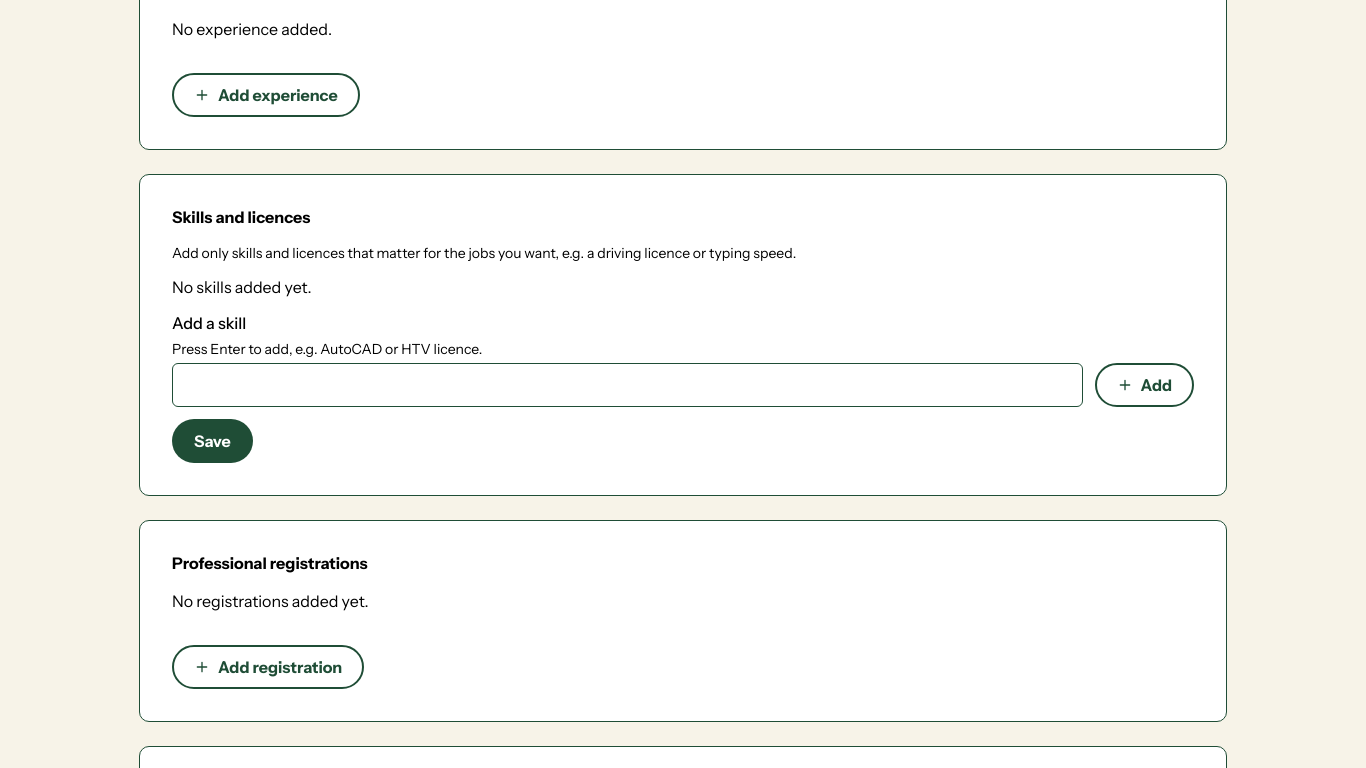
Resume page › saves skills typed into the builder
This screenshot has width=1366, height=768.
(page scrolled)
Type "HTV licence" into the field labelled "Add a skill" at coordinates (627, 384), box top-left (172, 362), bottom-right (1083, 406)
Then press Enter
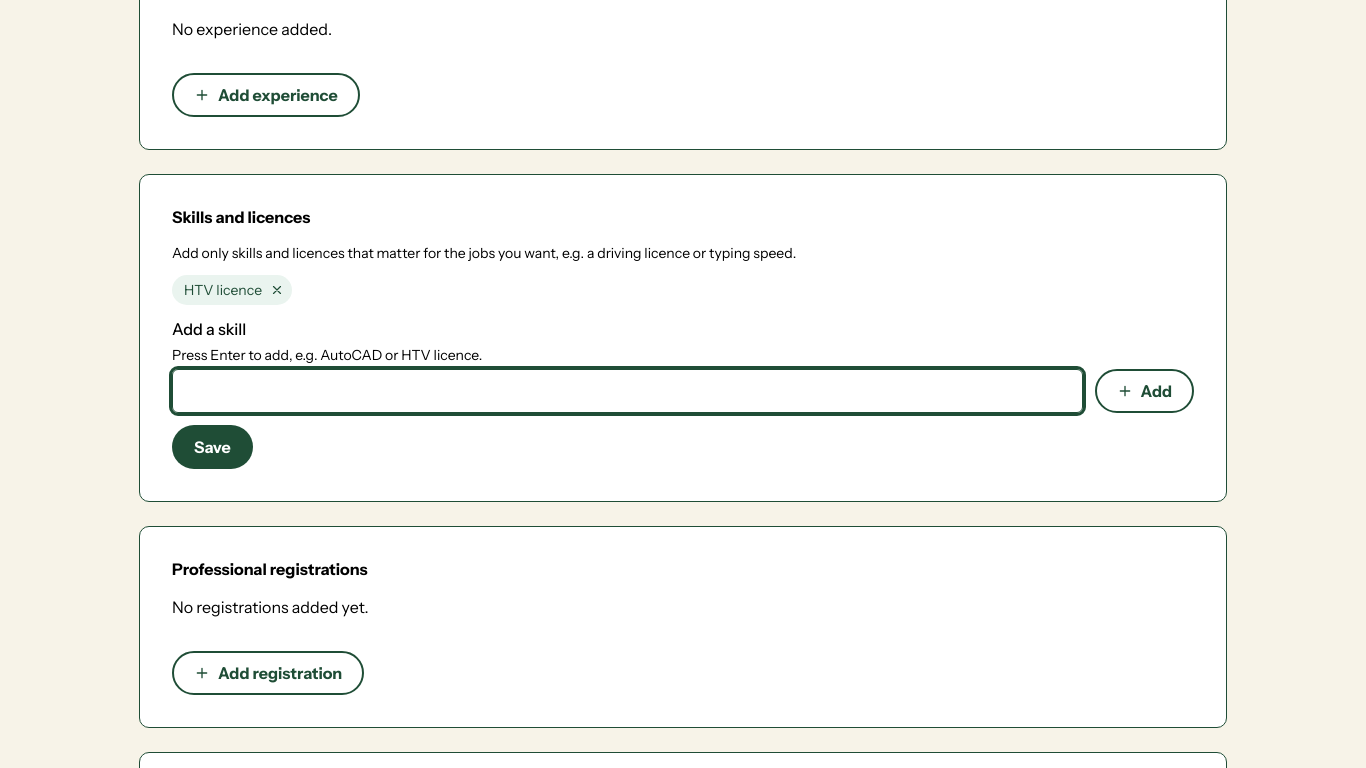
Click the button "Save" at coordinates (212, 446), box top-left (172, 424), bottom-right (253, 468)
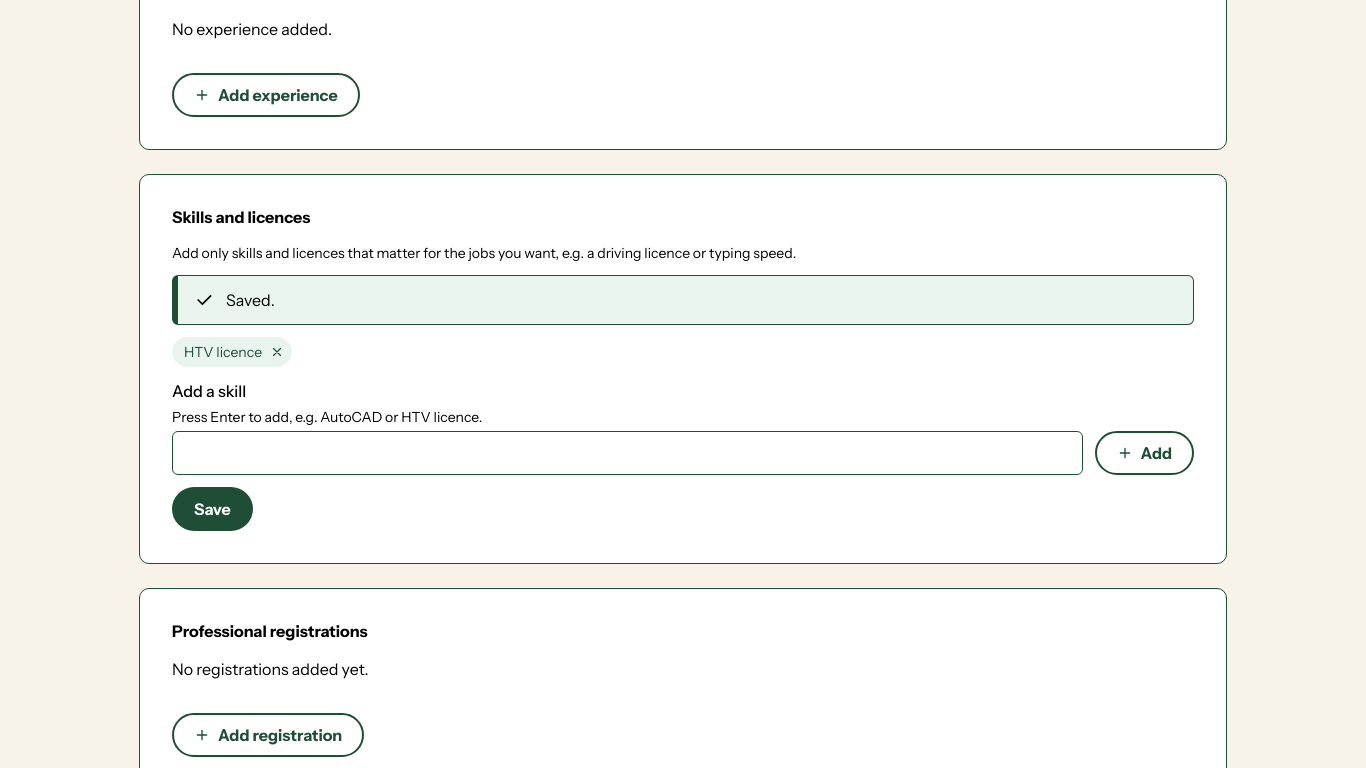
Expected: the list item "HTV licence" is shown, top-left (172, 336), bottom-right (292, 366)
Expected: the text "Saved." is shown, top-left (226, 290), bottom-right (275, 310)
